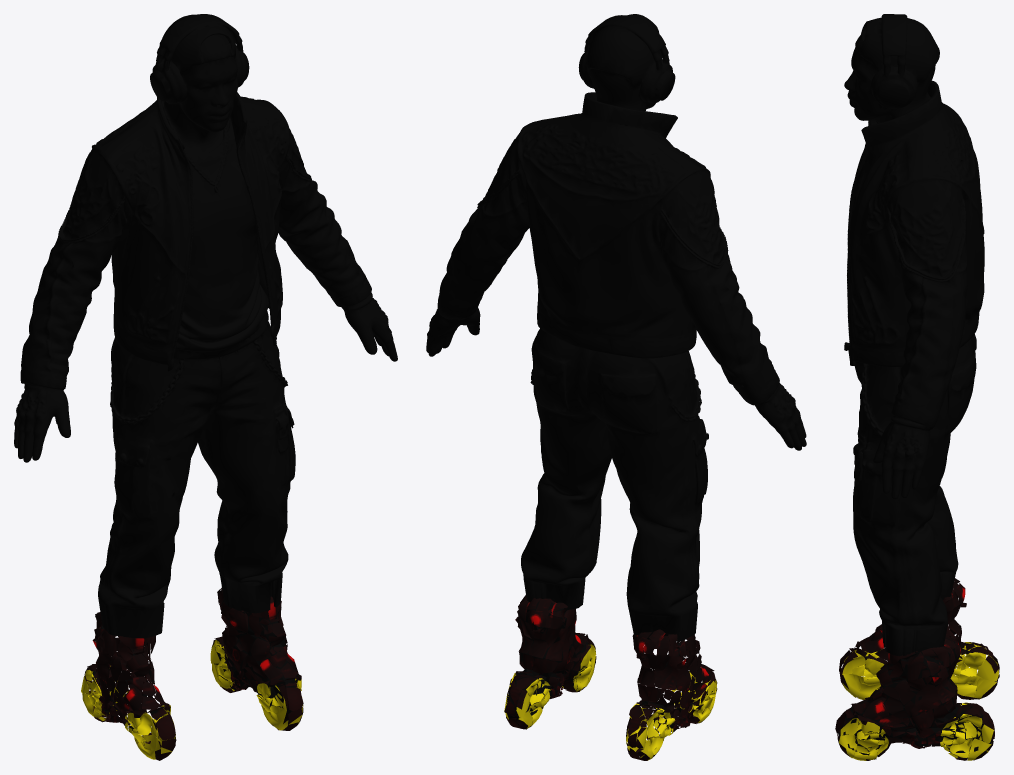
The model's file is caali-g-v2-raw.glb.
3 views of the same model, side by side, from view 1: azimuth 30°, elevation 25°; view 2: azimuth 150°, elevation 25°; view 3: azimuth 270°, elevation 25° (orthographic). The views are drawn at different scales.
Parts seen in each view (by area): view 1: CaaliG_LOD0; view 2: CaaliG_LOD0; view 3: CaaliG_LOD0.
Boxes of the visible parts, x1,y1,x2,y2 form: CaaliG_LOD0: (14, 14, 397, 760); CaaliG_LOD0: (426, 14, 806, 760); CaaliG_LOD0: (835, 14, 999, 760).
Size of what is drawn, in the model's own units: 1.06 by 1.92 by 0.4033.
1 material, 1 textured.
